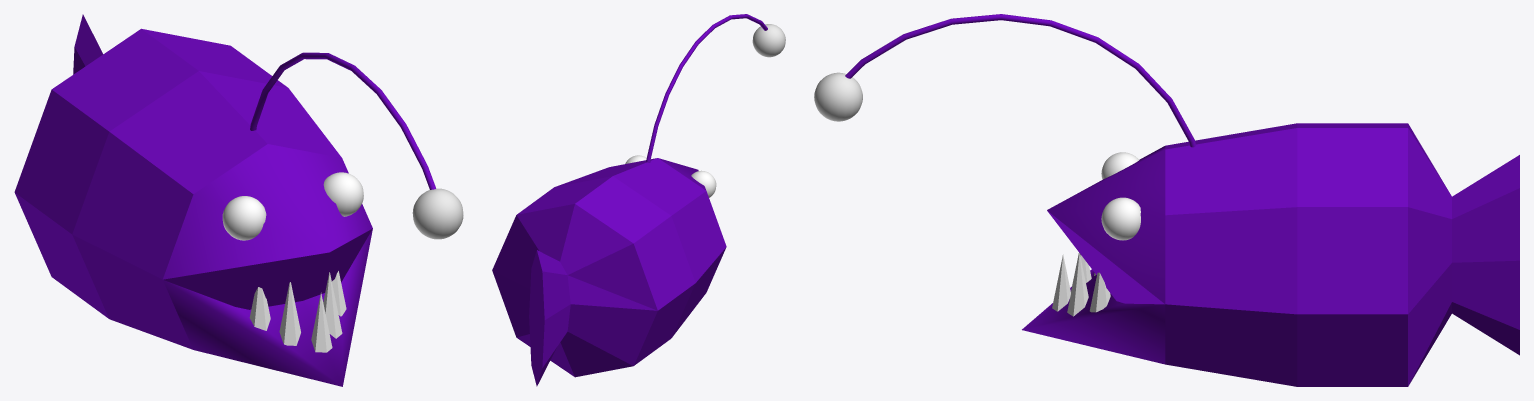
The model's file is light_fish.fbx.
3 views of the same model, side by side, from view 1: azimuth 30°, elevation 25°; view 2: azimuth 150°, elevation 25°; view 3: azimuth 270°, elevation 25° (orthographic). The views are drawn at different scales.
Parts seen in each view (by area): view 1: light_fish; view 2: light_fish; view 3: light_fish.
Boxes of the visible parts, x1,y1,x2,y2 form: light_fish: [14, 14, 463, 386]; light_fish: [492, 14, 785, 386]; light_fish: [814, 14, 1519, 386].
Bounding box in the file's own units: 3.15 × 4.56 × 7.93.
